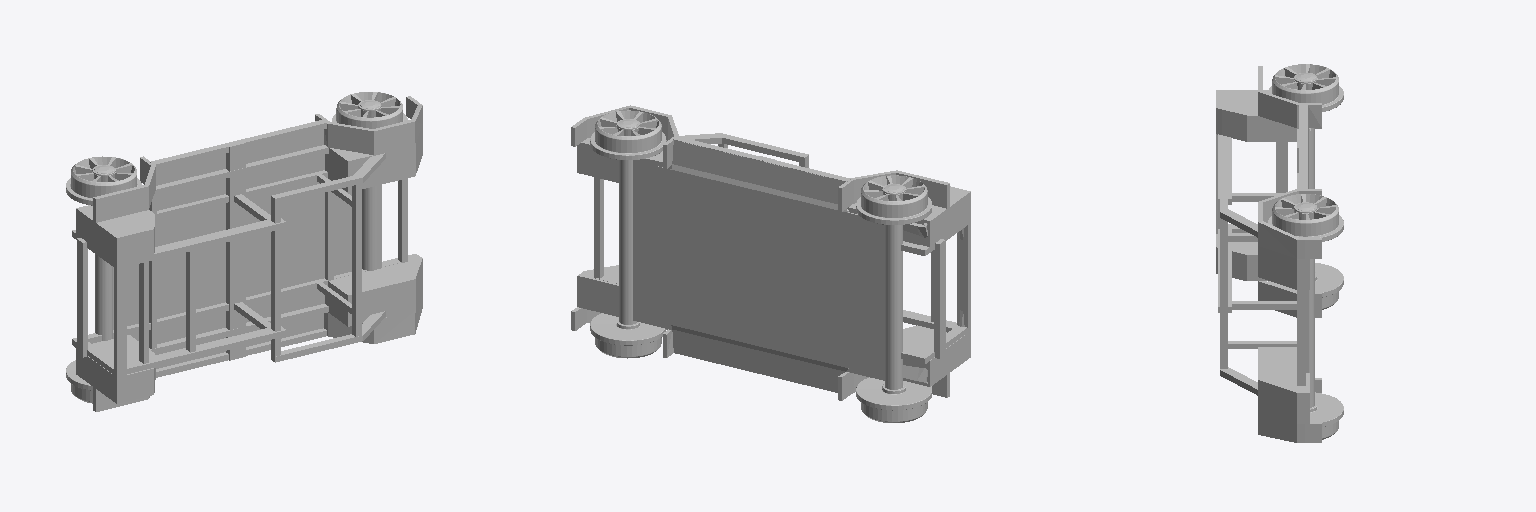
3 renders of one model, left to right at view 1: azimuth 30°, elevation 25°; view 2: azimuth 150°, elevation 25°; view 3: azimuth 270°, elevation 25°, orthographic.
Parts seen in each view (by area): view 1: Plane, train_wheels; view 2: Plane, train_wheels; view 3: Plane, train_wheels.
Part boxes in pixels (bbox=[...]): Plane: bbox=[72, 96, 422, 411]; train_wheels: bbox=[66, 92, 407, 403]; Plane: bbox=[571, 105, 970, 400]; train_wheels: bbox=[590, 110, 931, 422]; Plane: bbox=[1216, 66, 1321, 442]; train_wheels: bbox=[1268, 64, 1343, 439].
Bounding box in the file's own units: 2.12 × 1.29 × 0.6682.